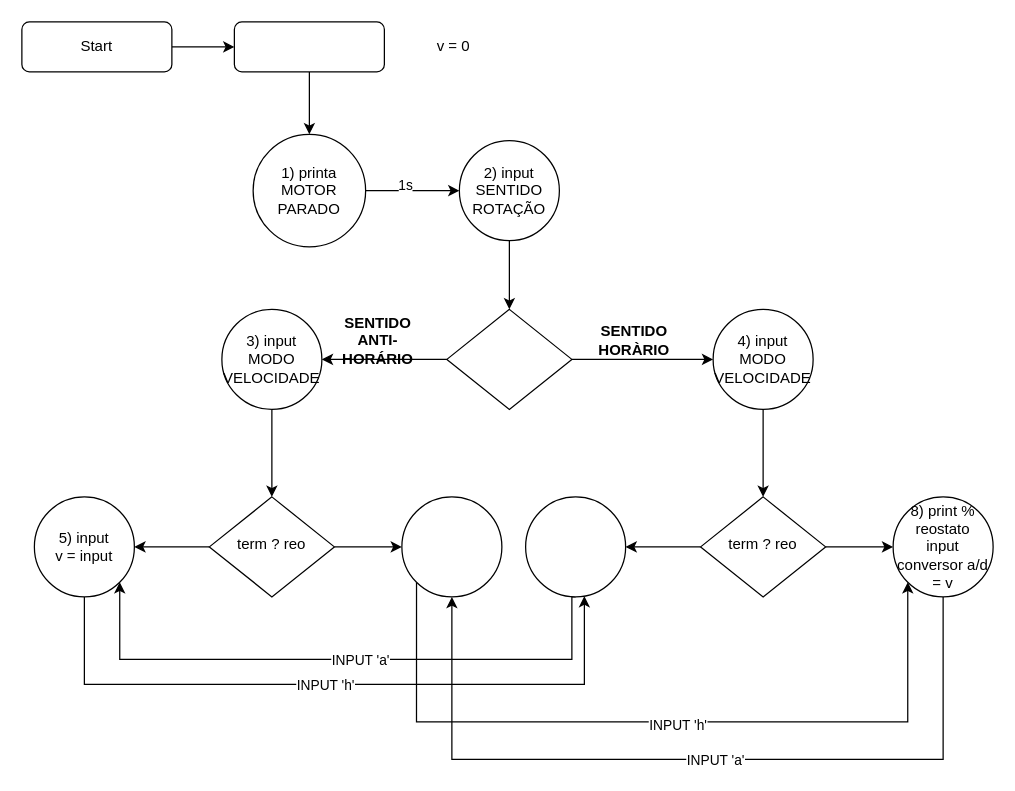
The diagram is 1015 pixels wide and 791 high, and some of its shapes have lost their labels. The centre of each missing label's shape, as x and y in pixels:
6) print % reostato input conversor a/d = v: point (451, 546)
7) input v = input: point (575, 546)
a ? h: point (509, 358)
Startup routine: point (308, 46)
